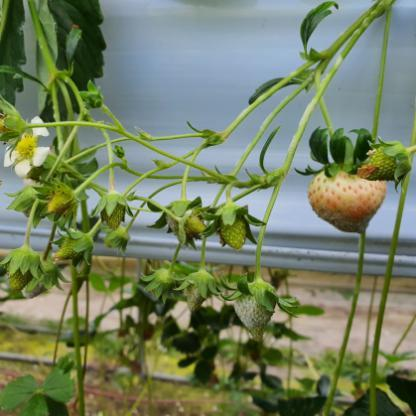Strawberry_Powdery_Mildew_Fruit: (233, 280, 279, 342), (22, 262, 56, 300), (186, 270, 216, 312)
